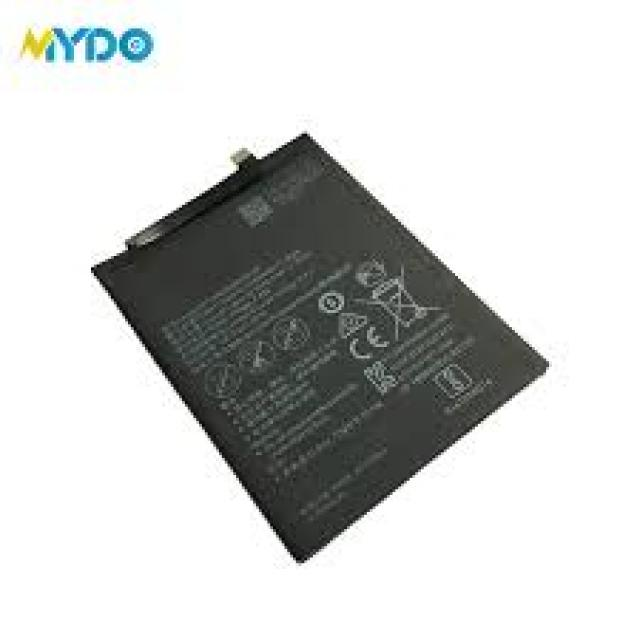non-organic waste: (86, 124, 549, 565)
